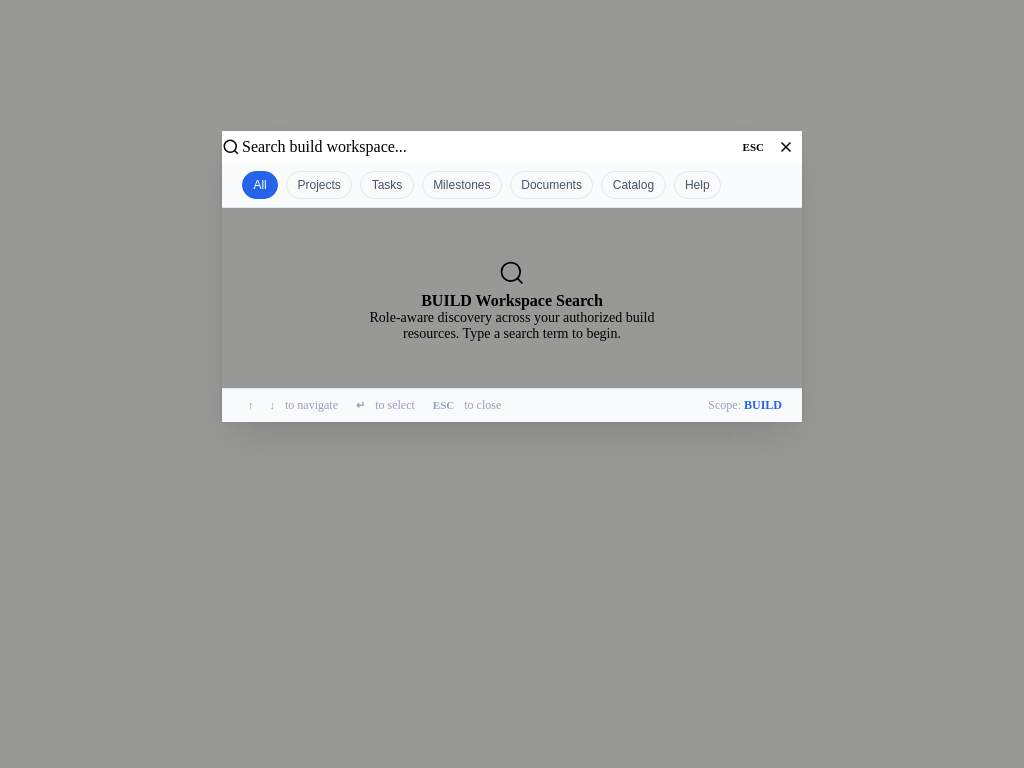
Scenario: Phase 8 Batch 3: Search & Notifications UI › Global Search Modal › displays search results when query matches
The image size is (1024, 768).
Type "telemetry" into the field with placeholder "Search build workspace..." at (488, 146), box [240,136,737,156]
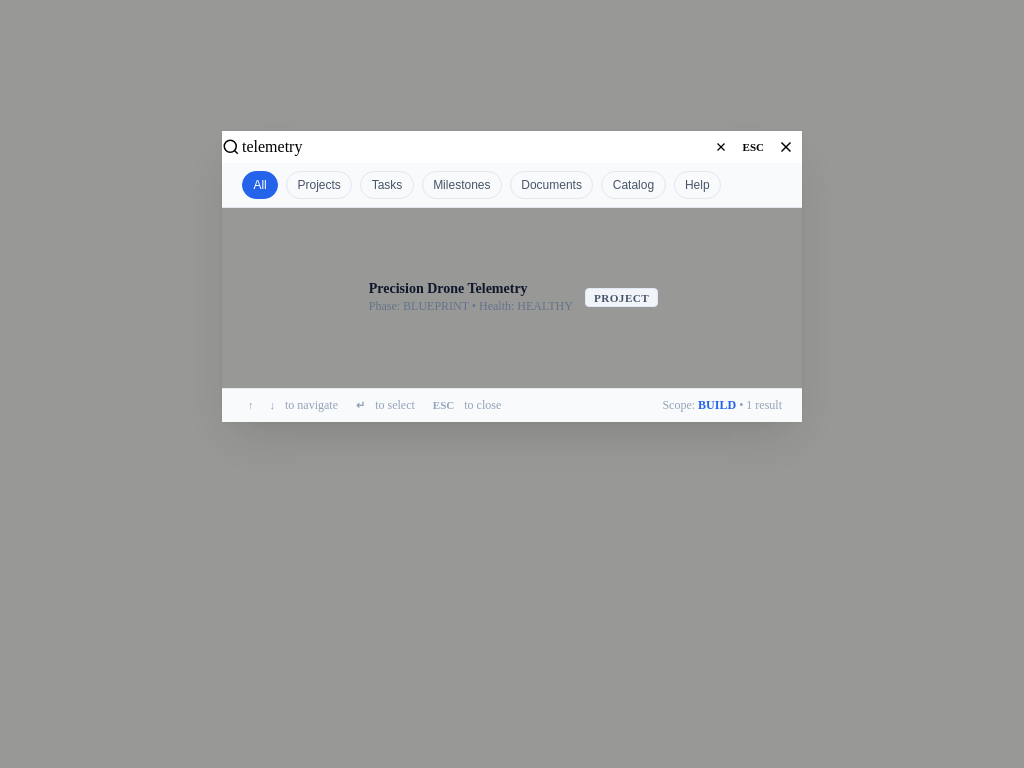
Now the heading "Precision Drone Telemetry" is shown, box [369,281,528,296]
Now the text "PROJECT" is shown, box [585,288,658,307]
